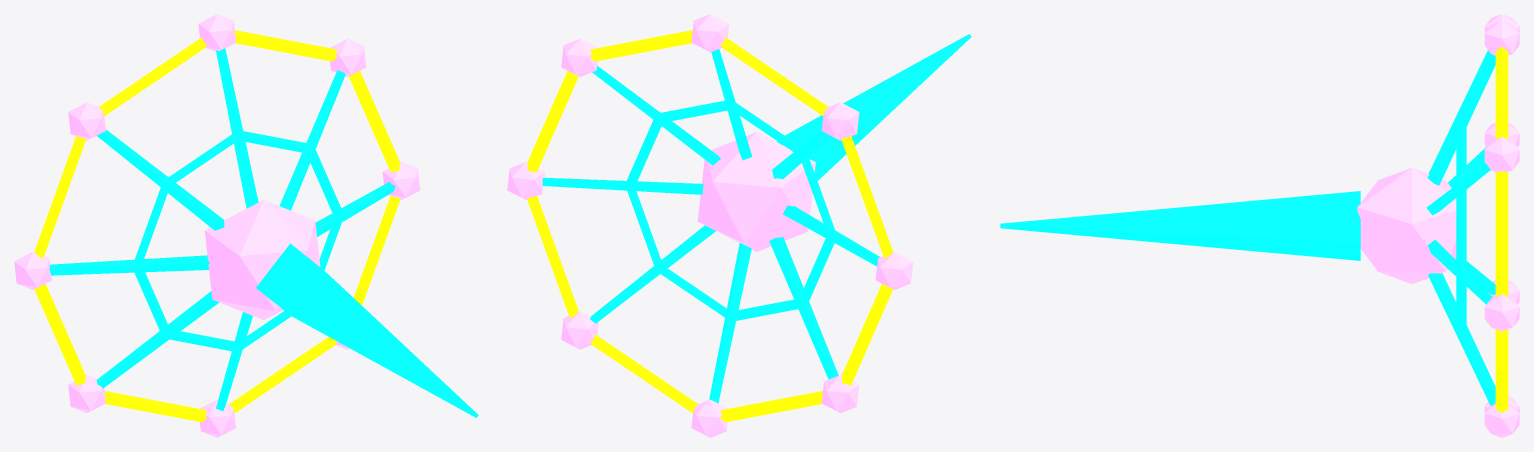
The model's file is Proj_WebShot.fbx.
The picture shows the model from 3 angles, left to right: view 1: azimuth 30°, elevation 25°; view 2: azimuth 150°, elevation 25°; view 3: azimuth 270°, elevation 25°; orthographic projection. The views are drawn at different scales.
Parts seen in each view (by area): view 1: Web_NetOuter, Web_Trail, Web_Blob, Web_NetInner, Web_Strand4, Web_Strand3, Web_Strand2, Web_Strand5, Web_Strand1, Web_Weight3, Web_Weight4, Web_Strand0 (+6 smaller); view 2: Web_NetOuter, Web_Blob, Web_NetInner, Web_Trail, Web_Strand5, Web_Strand6, Web_Strand0, Web_Strand7, Web_Strand1, Web_Strand4, Web_Strand2, Web_Weight3 (+8 smaller); view 3: Web_Trail, Web_Blob, Web_NetOuter, Web_NetInner, Web_Strand2, Web_Strand7, Web_Weight0, Web_Weight1, Web_Weight2, Web_Strand0, Web_Weight7, Web_Strand1.
Boxes of the visible parts, left/top/right/bottom form: Web_NetOuter: left=34, top=30, right=400, bottom=422; Web_Trail: left=256, top=243, right=478, bottom=417; Web_Blob: left=204, top=200, right=320, bottom=319; Web_NetInner: left=133, top=131, right=342, bottom=351; Web_Strand4: left=49, top=255, right=209, bottom=275; Web_Strand3: left=97, top=129, right=224, bottom=230; Web_Strand2: left=216, top=48, right=258, bottom=208; Web_Strand5: left=96, top=291, right=219, bottom=388; Web_Strand1: left=279, top=70, right=345, bottom=210; Web_Weight3: left=68, top=102, right=105, bottom=140; Web_Weight4: left=14, top=251, right=51, bottom=289; Web_Strand0: left=315, top=181, right=395, bottom=236; Web_NetOuter: left=527, top=30, right=892, bottom=422; Web_Blob: left=697, top=132, right=815, bottom=251; Web_NetInner: left=626, top=100, right=835, bottom=320; Web_Trail: left=777, top=34, right=971, bottom=180; Web_Strand5: left=769, top=237, right=838, bottom=379; Web_Strand6: left=709, top=243, right=751, bottom=403; Web_Strand0: left=542, top=177, right=703, bottom=194; Web_Strand7: left=589, top=225, right=715, bottom=323; Web_Strand1: left=592, top=65, right=720, bottom=165; Web_Strand4: left=783, top=205, right=880, bottom=266; Web_Strand2: left=711, top=49, right=752, bottom=160; Web_Weight3: left=821, top=102, right=859, bottom=140; Web_Trail: left=1000, top=191, right=1360, bottom=260; Web_Blob: left=1357, top=168, right=1456, bottom=283; Web_NetOuter: left=1495, top=47, right=1508, bottom=412; Web_NetInner: left=1456, top=122, right=1466, bottom=333; Web_Strand2: left=1427, top=53, right=1495, bottom=185; Web_Strand7: left=1428, top=273, right=1495, bottom=405; Web_Weight0: left=1484, top=294, right=1519, bottom=331; Web_Weight1: left=1484, top=137, right=1519, bottom=172; Web_Weight2: left=1484, top=21, right=1519, bottom=55; Web_Strand0: left=1428, top=239, right=1492, bottom=304; Web_Weight7: left=1484, top=403, right=1519, bottom=437; Web_Strand1: left=1426, top=163, right=1490, bottom=215.
Size of the model in its own units: 0.1743 by 0.176 by 0.2018.
